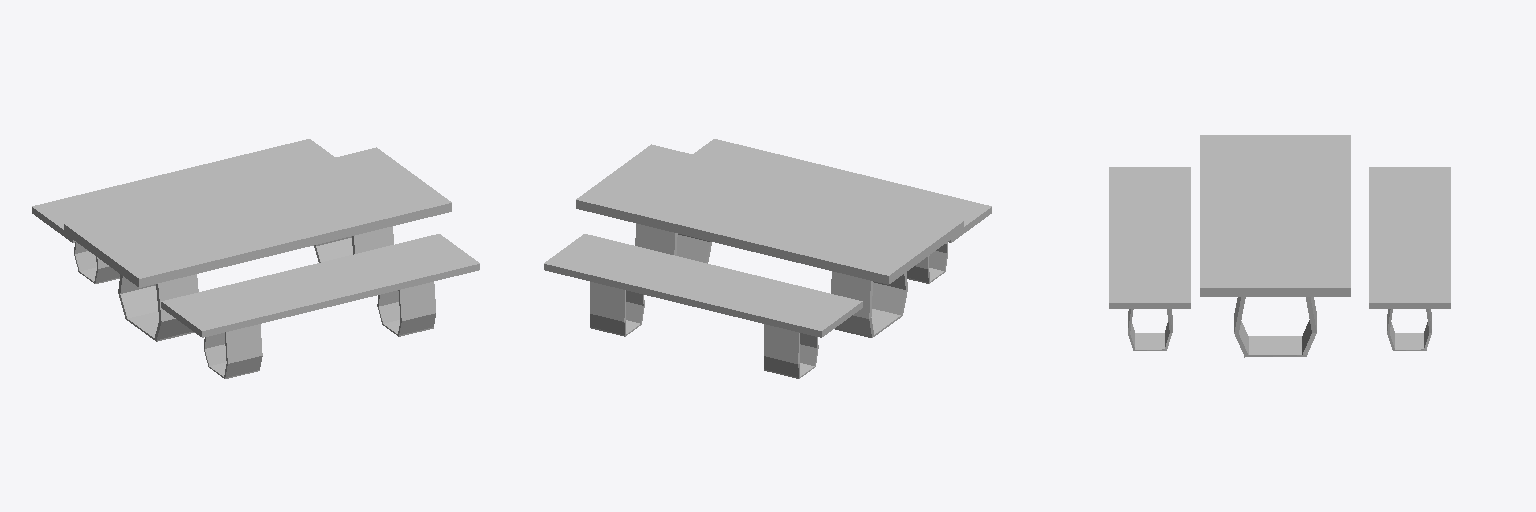
The model's file is pic2.obj.
3 renders of one model, left to right at view 1: azimuth 30°, elevation 25°; view 2: azimuth 150°, elevation 25°; view 3: azimuth 270°, elevation 25°, orthographic.
Parts seen in each view (by area): view 1: Plane.002; view 2: Plane.002; view 3: Plane.002.
Part boxes in pixels (x1,y1,x2,y2): Plane.002: (32, 139, 479, 378); Plane.002: (544, 139, 991, 378); Plane.002: (1109, 135, 1450, 357).
Bounding box in the file's own units: 936 × 253 × 885.